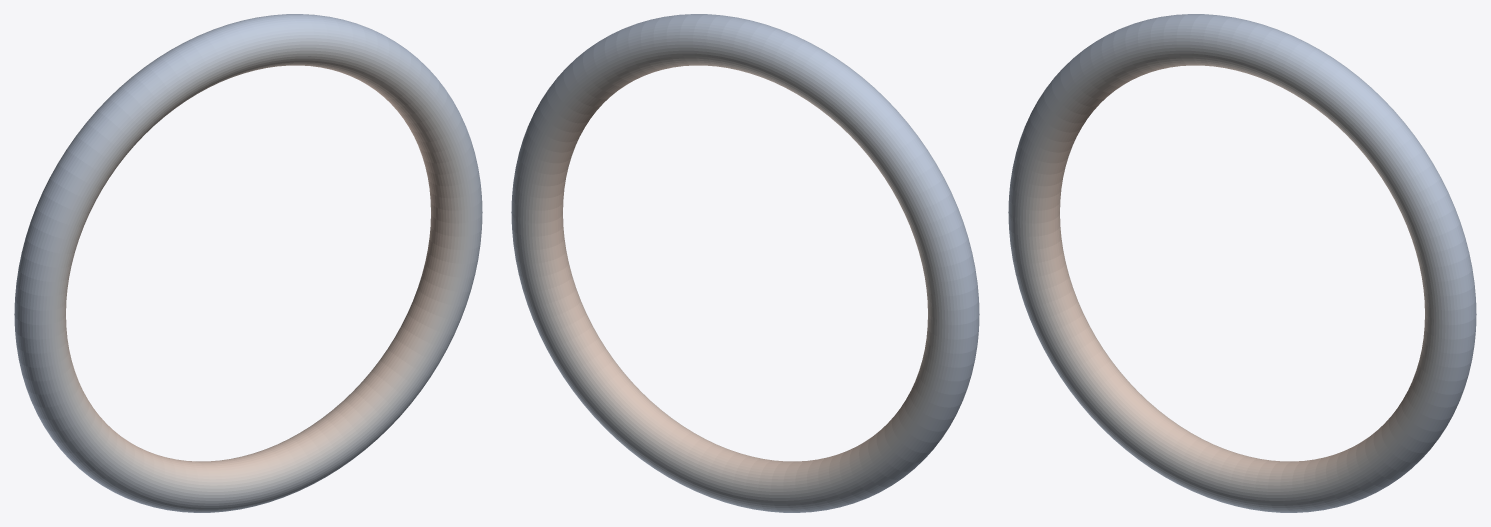
3 renders of one model, left to right at view 1: azimuth 30°, elevation 25°; view 2: azimuth 150°, elevation 25°; view 3: azimuth 330°, elevation 25°, orthographic.
Visible parts, largest first — view 1: world; view 2: world; view 3: world.
Part boxes in pixels (left/top/right/bottom): world: left=14, top=14, right=482, bottom=512; world: left=511, top=14, right=979, bottom=512; world: left=1008, top=14, right=1476, bottom=512.
Size of the model in its own units: 20.67 by 20.67 by 2.
